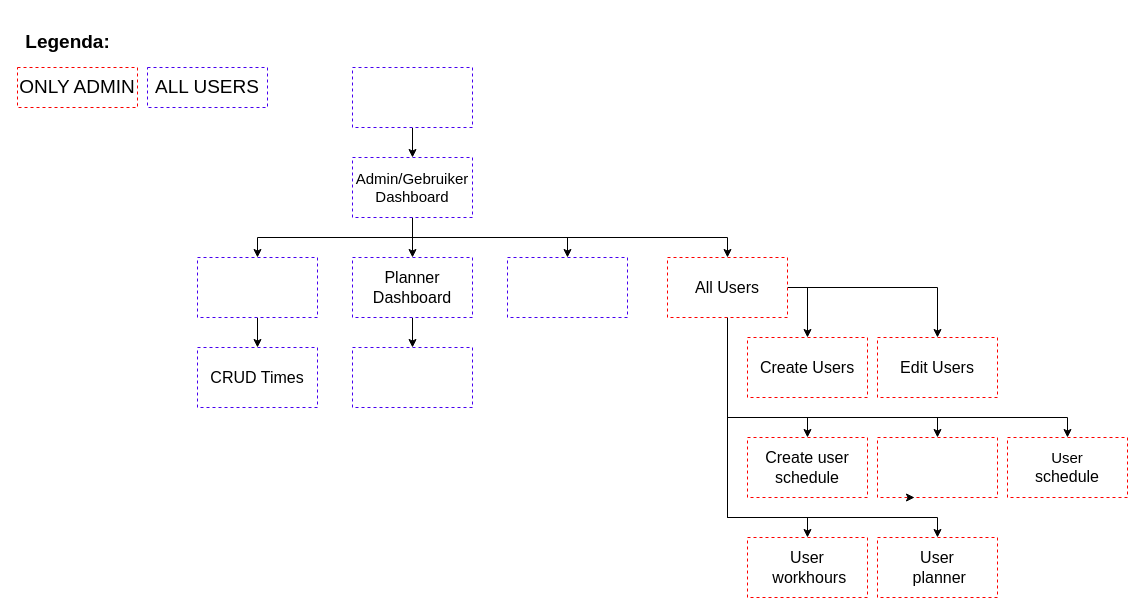
Some shapes in this 1145 by 615 pixel diagram are drawn without their labels. The centre of each missing label's shape, as x and y in pixels:
Clocker: (x=257, y=287)
Edit user schedule: (x=937, y=467)
Login: (x=412, y=97)
Planner form: (x=412, y=377)
Schedule: (x=567, y=287)
